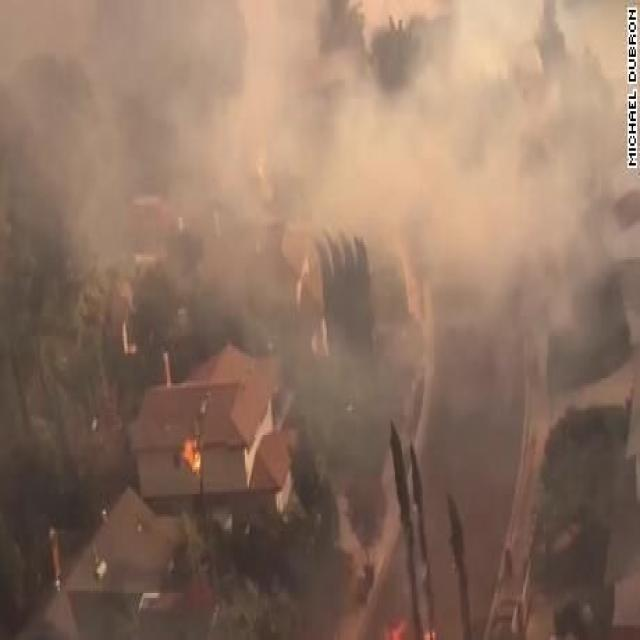Fire: (183, 436, 206, 469)
Smoke: (0, 0, 635, 361)
